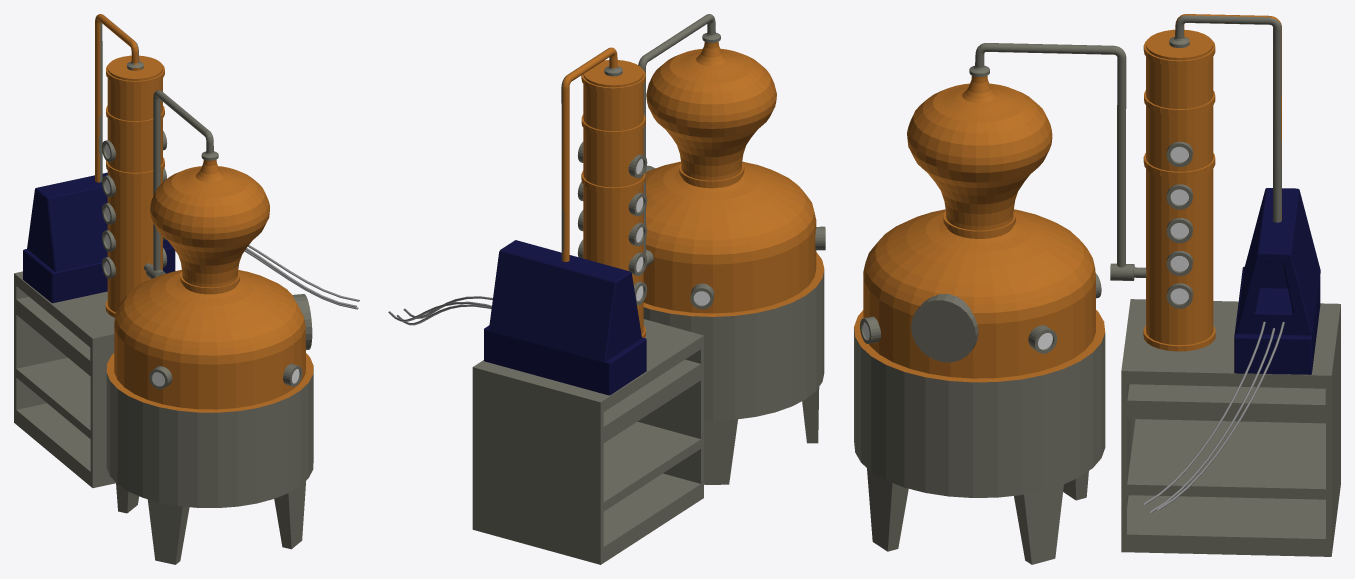
The model's file is fabrique_potion 1.fbx.
3 views of the same model, side by side, from view 1: azimuth 30°, elevation 25°; view 2: azimuth 150°, elevation 25°; view 3: azimuth 270°, elevation 25° (orthographic). The views are drawn at different scales.
Parts seen in each view (by area): view 1: Distillerie, Sortie potion, BezierCurve; view 2: Distillerie, Sortie potion, BezierCurve; view 3: Distillerie, Sortie potion, BezierCurve.
Boxes of the visible parts, x1,y1,x2,y2 form: Distillerie: (14,14,313,564); Sortie potion: (23,172,175,303); BezierCurve: (244,245,359,309); Distillerie: (472,14,825,564); Sortie potion: (484,240,646,395); BezierCurve: (388,296,492,325); Distillerie: (854,14,1340,564); Sortie potion: (1234,188,1320,374); BezierCurve: (1143,321,1284,513).
Bounding box in the file's own units: 283 × 363 × 314.
